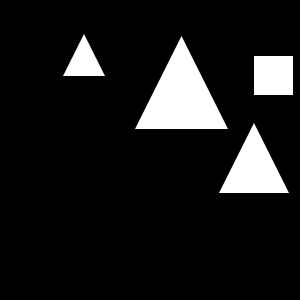circle: (254, 56, 293, 95)
triangle: (135, 36, 228, 129), (219, 123, 289, 193), (63, 34, 105, 76)
